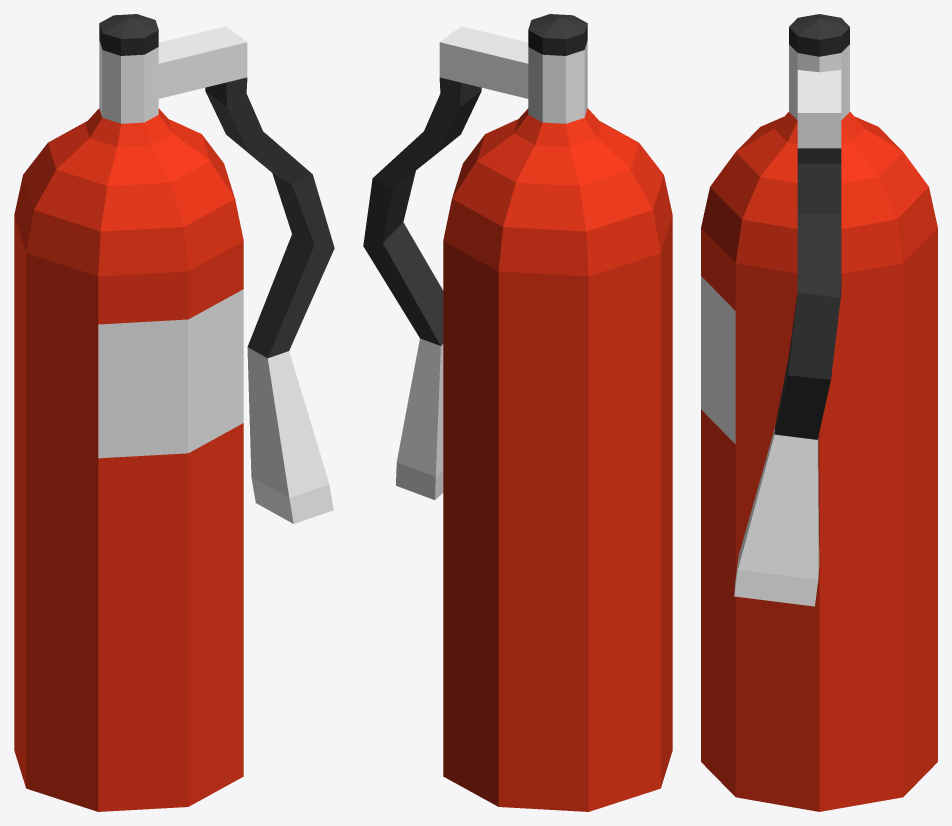
File: Extinguisher.fbx
The picture shows the model from 3 angles, left to right: view 1: azimuth 30°, elevation 25°; view 2: azimuth 150°, elevation 25°; view 3: azimuth 270°, elevation 25°; orthographic projection.
Visible parts, largest first — view 1: Extinguisher; view 2: Extinguisher; view 3: Extinguisher.
Part boxes in pixels (box(x1,y1,x2,y2)): Extinguisher: box(14, 14, 334, 811); Extinguisher: box(363, 14, 672, 811); Extinguisher: box(701, 14, 937, 811).
Size of the model in its own units: 0.3594 by 0.2526 by 0.8741.
